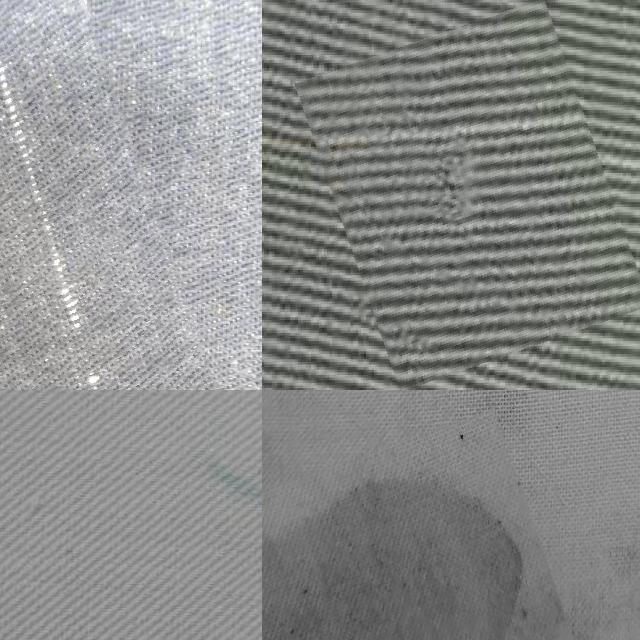Hole: (262, 438, 579, 640)
Thread_other: (316, 16, 626, 376)
